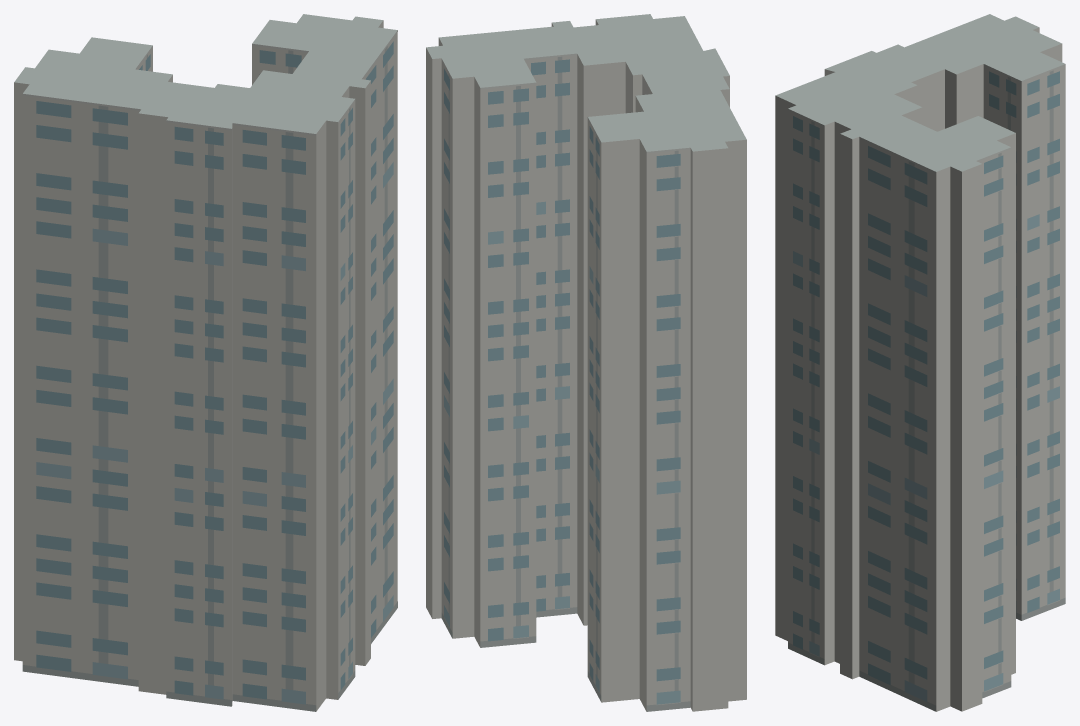
File: residential-9dd074db-a8bf-4e79-91ef-49b68ee12fe1.glb
3 views of the same model, side by side, from view 1: azimuth 30°, elevation 25°; view 2: azimuth 150°, elevation 25°; view 3: azimuth 270°, elevation 25° (orthographic). The views are drawn at different scales.
Parts seen in each view (by area): view 1: residential-9dd074db-a8bf-4e79-91ef-49b68ee12fe1.tmp; view 2: residential-9dd074db-a8bf-4e79-91ef-49b68ee12fe1.tmp; view 3: residential-9dd074db-a8bf-4e79-91ef-49b68ee12fe1.tmp.
Boxes of the visible parts, <box> form: residential-9dd074db-a8bf-4e79-91ef-49b68ee12fe1.tmp: <box>14,14,397,711</box>; residential-9dd074db-a8bf-4e79-91ef-49b68ee12fe1.tmp: <box>426,14,746,711</box>; residential-9dd074db-a8bf-4e79-91ef-49b68ee12fe1.tmp: <box>775,14,1065,711</box>.
Bounding box in the file's own units: 48.33 × 77 × 37.52.
